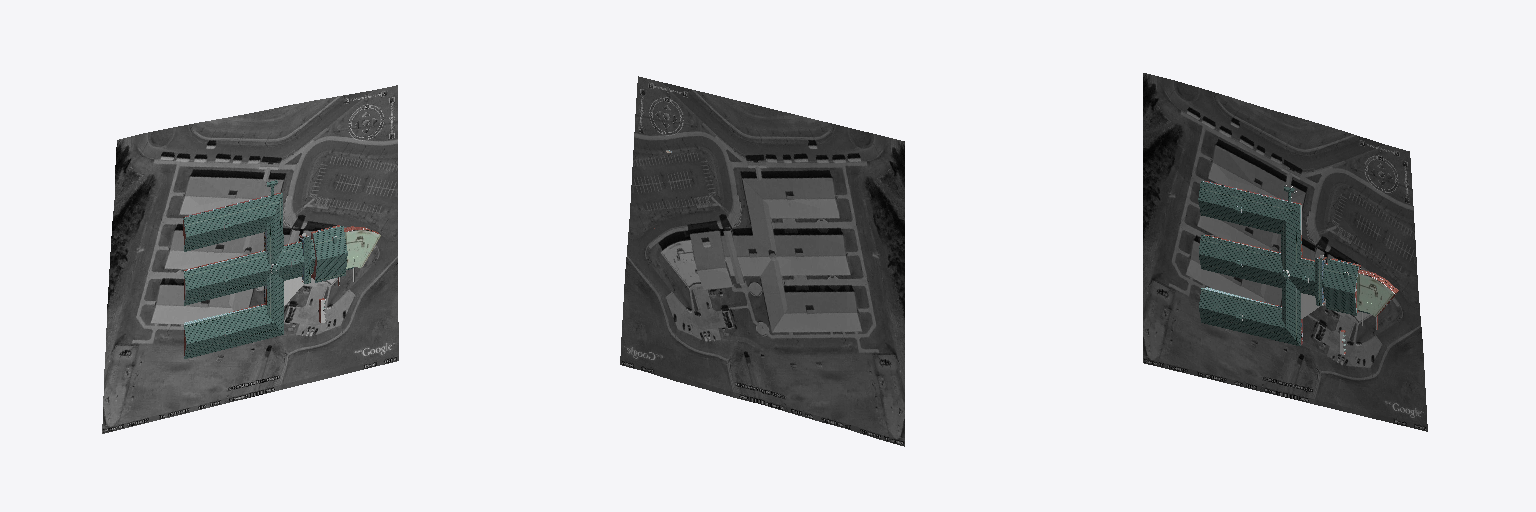
3 views of the same model, side by side, from view 1: azimuth 30°, elevation 25°; view 2: azimuth 150°, elevation 25°; view 3: azimuth 330°, elevation 25° (orthographic).
Visible parts, largest first — view 1: Mesh1 Google_Earth_Terrain Model, Mesh8 Group1 Model, Mesh9 Group1 Model, Mesh66 Model; view 2: Mesh1 Google_Earth_Terrain Model; view 3: Mesh1 Google_Earth_Terrain Model, Mesh8 Group1 Model, Mesh9 Group1 Model, Mesh66 Model.
Part boxes in pixels (left/top/right/bottom): Mesh1 Google_Earth_Terrain Model: left=102, top=85, right=398, bottom=433; Mesh8 Group1 Model: left=184, top=193, right=315, bottom=358; Mesh9 Group1 Model: left=313, top=226, right=347, bottom=282; Mesh66 Model: left=311, top=225, right=380, bottom=282; Mesh1 Google_Earth_Terrain Model: left=620, top=76, right=904, bottom=446; Mesh1 Google_Earth_Terrain Model: left=1143, top=73, right=1427, bottom=431; Mesh8 Group1 Model: left=1198, top=181, right=1326, bottom=346; Mesh9 Group1 Model: left=1324, top=259, right=1358, bottom=315; Mesh66 Model: left=1330, top=258, right=1393, bottom=316.
Size of the model in its own units: 753 by 739 by 77.51.
76 materials, 70 textured.